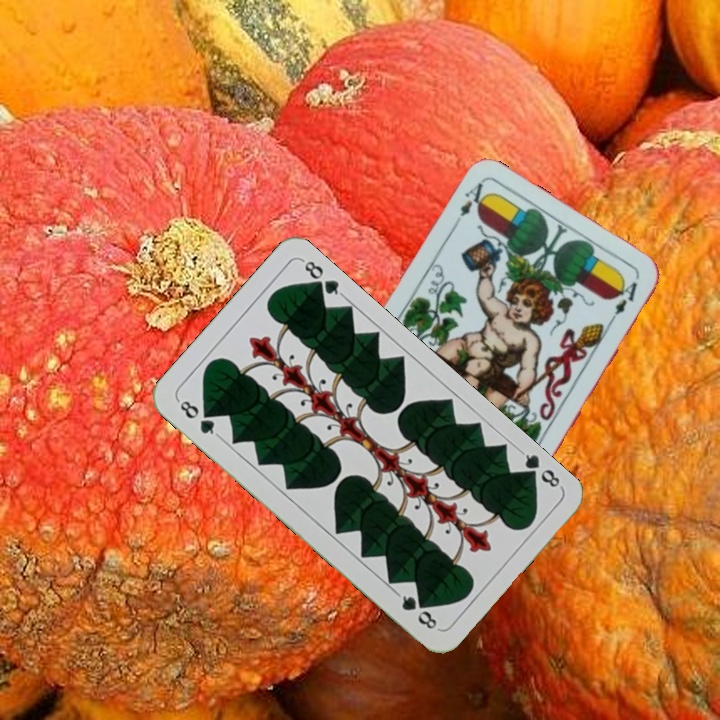EA: (448, 178, 491, 232)
G8: (516, 446, 564, 491), (174, 395, 222, 439)
